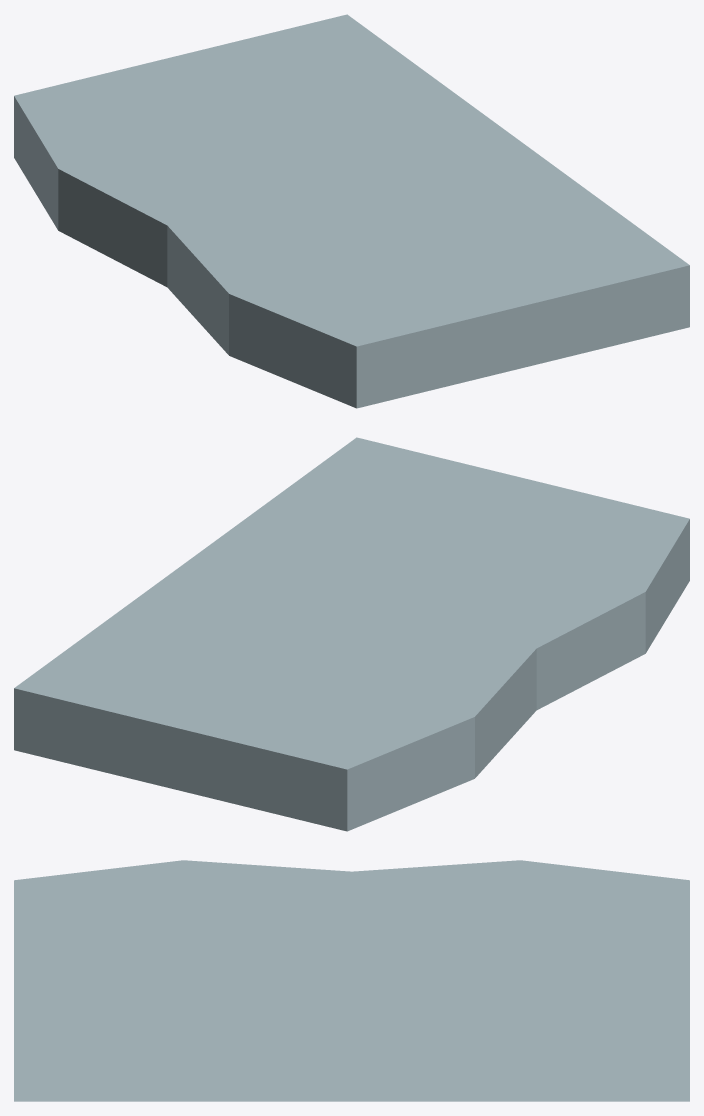
Rendered from Right_BrokenRoof.fbx.
The picture shows the model from 3 angles, top to bottom: view 1: azimuth 30°, elevation 25°; view 2: azimuth 150°, elevation 25°; view 3: azimuth 270°, elevation 25°; orthographic projection.
Parts seen in each view (by area): view 1: Right_BrokenRoof; view 2: Right_BrokenRoof; view 3: Right_BrokenRoof.
Part boxes in pixels (x1=…): Right_BrokenRoof: x1=14, y1=14, x2=689, y2=408; Right_BrokenRoof: x1=14, y1=437, x2=689, y2=831; Right_BrokenRoof: x1=14, y1=860, x2=689, y2=1101.
Size of the model in its own units: 632 by 99.76 by 1000.
